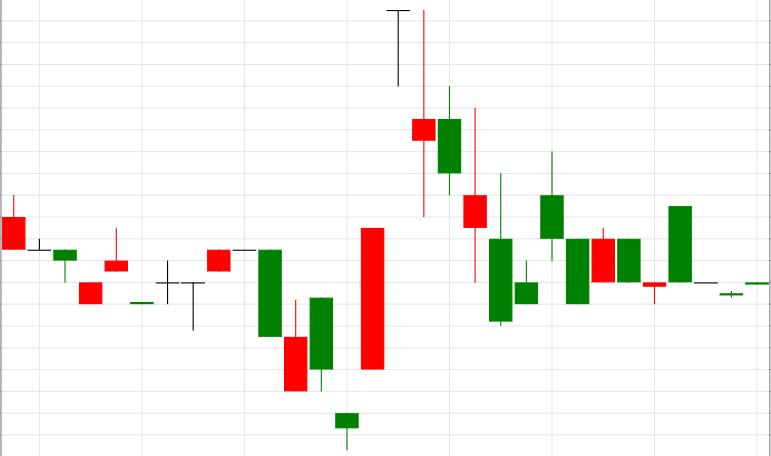morning_star_rise: (208, 228, 384, 451)
